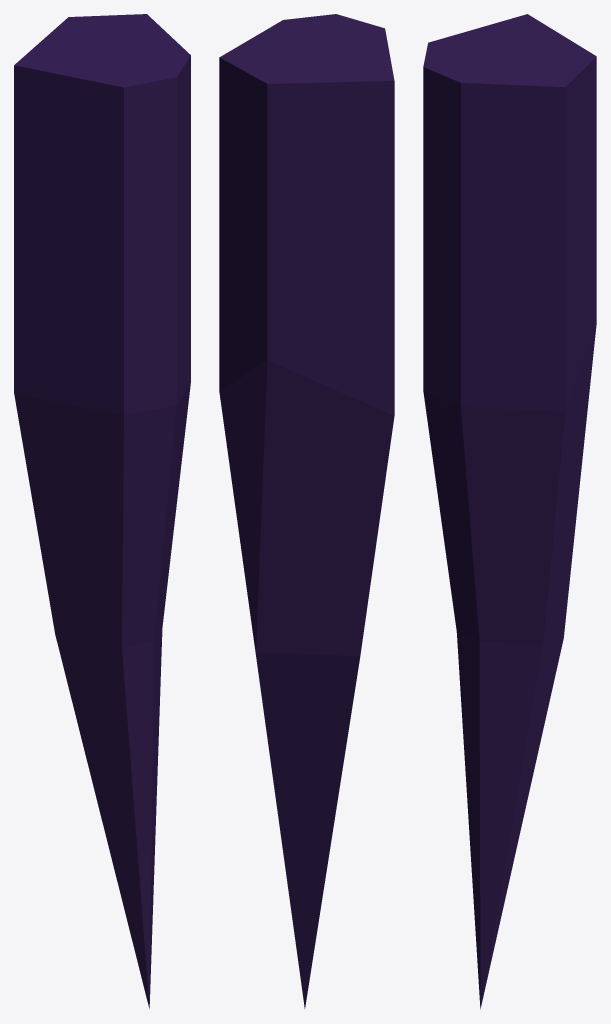
Rendered from stalactite_007_grp.fbx.
The picture shows the model from 3 angles, left to right: view 1: azimuth 30°, elevation 25°; view 2: azimuth 150°, elevation 25°; view 3: azimuth 270°, elevation 25°; orthographic projection. The views are drawn at different scales.
Parts seen in each view (by area): view 1: stalactite_007_grp; view 2: stalactite_007_grp; view 3: stalactite_007_grp.
Part boxes in pixels (x1,y1,x2,y2): stalactite_007_grp: (14, 14, 190, 1008); stalactite_007_grp: (219, 14, 394, 1008); stalactite_007_grp: (423, 14, 596, 1009).
Bounding box in the file's own units: 50 × 300 × 50.
